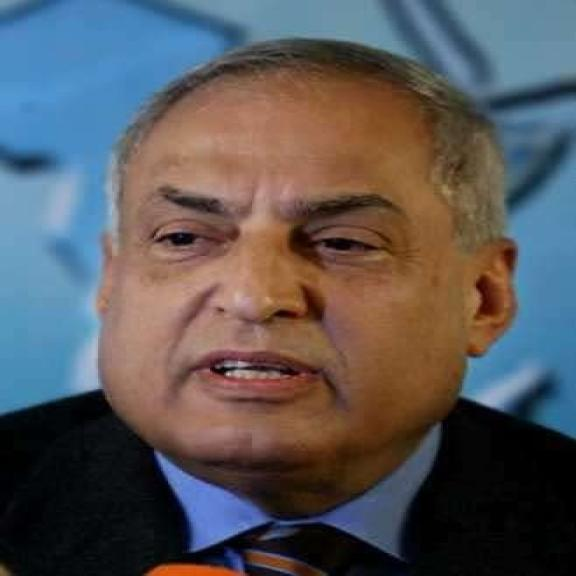face: (93, 63, 524, 474)
